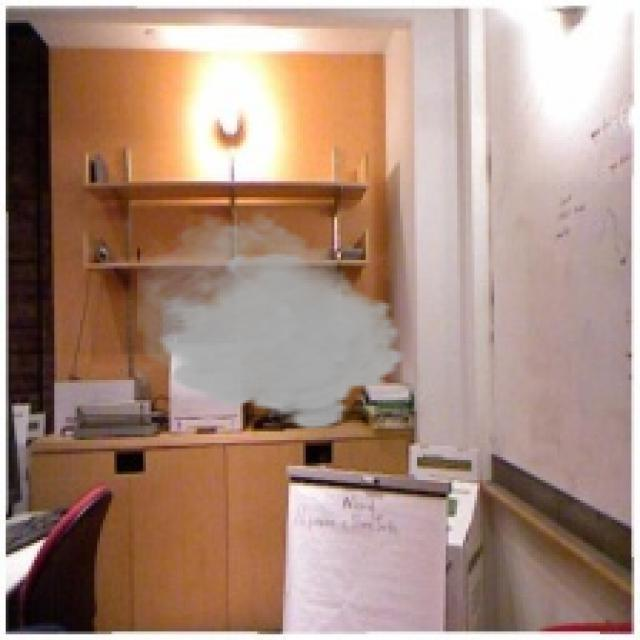Smoke: (137, 206, 409, 431)
